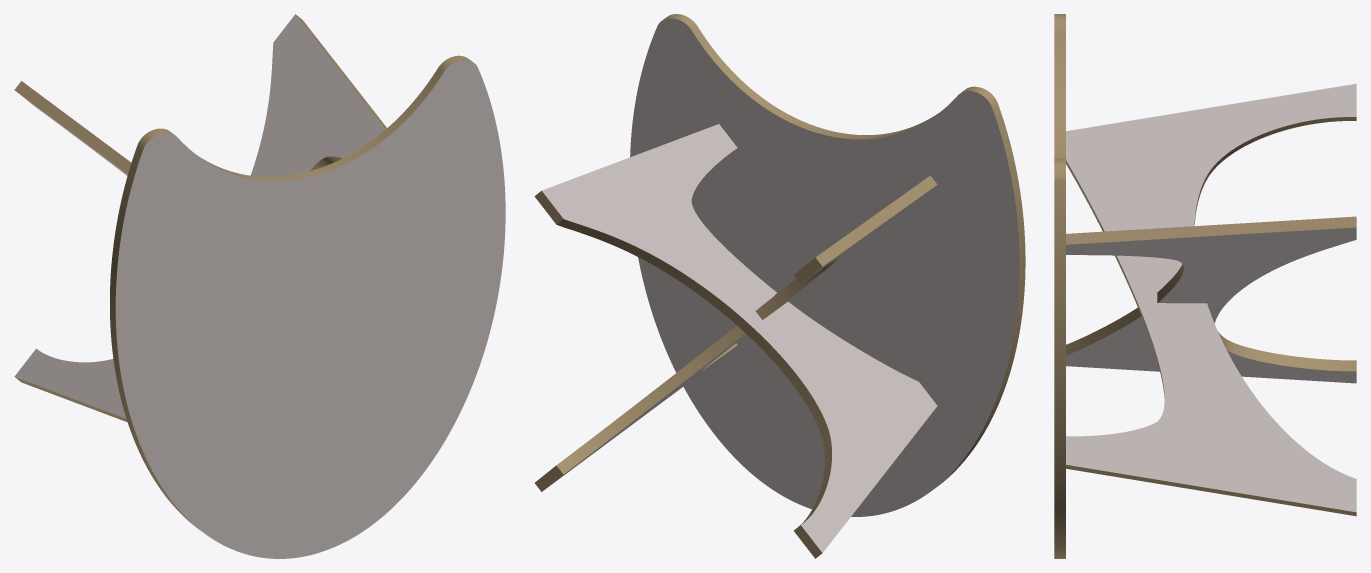
Rendered from NODO_MESA_RATONA_EN_CRUZ_PARAISO_V12_TAPA18MM_VISIBLE.glb.
3 views of the same model, side by side, from view 1: azimuth 30°, elevation 25°; view 2: azimuth 150°, elevation 25°; view 3: azimuth 270°, elevation 25° (orthographic).
Visible parts, largest first — view 1: Tapa_cuerpo_18mm, Pata_A_cuerpo, Tapa_canto_18mm_visible, Pata_B_canto, Pata_A_canto; view 2: Tapa_cuerpo_18mm, Pata_A_cuerpo, Pata_B_canto, Pata_A_canto, Tapa_canto_18mm_visible, Pata_B_cuerpo; view 3: Pata_B_cuerpo, Pata_A_cuerpo, Tapa_canto_18mm_visible, Pata_A_canto, Pata_B_canto.
Part boxes in pixels (box(x1,y1,x2,y2)): Tapa_cuerpo_18mm: box(115, 60, 505, 558); Pata_A_cuerpo: box(14, 14, 385, 418); Tapa_canto_18mm_visible: box(110, 55, 472, 529); Pata_B_canto: box(14, 81, 131, 174); Pata_A_canto: box(15, 15, 386, 422); Tapa_cuerpo_18mm: box(630, 18, 1019, 516); Pata_A_cuerpo: box(542, 124, 937, 552); Pata_B_canto: box(535, 175, 937, 491); Pata_A_canto: box(534, 149, 831, 558); Tapa_canto_18mm_visible: box(663, 14, 1025, 487); Pata_B_cuerpo: box(545, 187, 933, 489); Pata_B_cuerpo: box(1066, 83, 1356, 512); Pata_A_cuerpo: box(1066, 227, 1356, 383); Tapa_canto_18mm_visible: box(1054, 14, 1065, 558); Pata_A_canto: box(1066, 216, 1356, 371); Pata_B_canto: box(1066, 117, 1356, 516).
Bounding box in the file's own units: 0.6924 × 0.7771 × 0.468.
